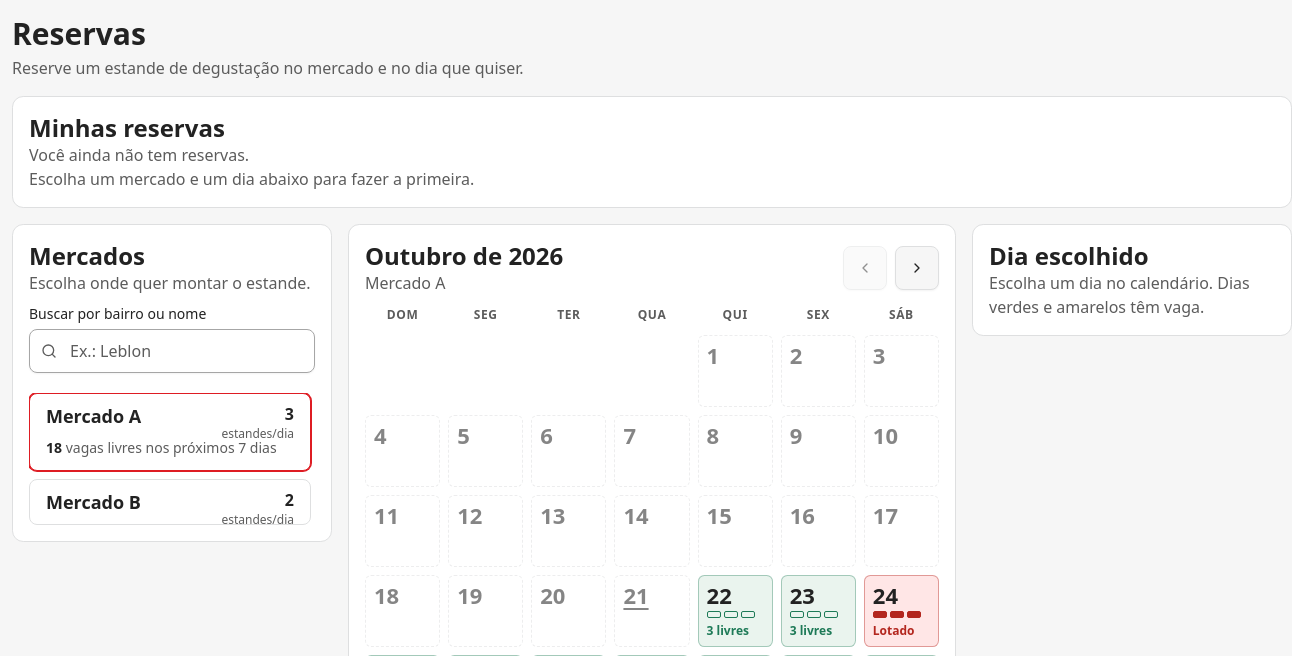
Scenario: SupplierScreen: reservar › dia lotado não deixa reservar
Click the button with aria-label "Sábado, 24 de outubro: lotado": coordinates (901, 611) [864,575,939,647]
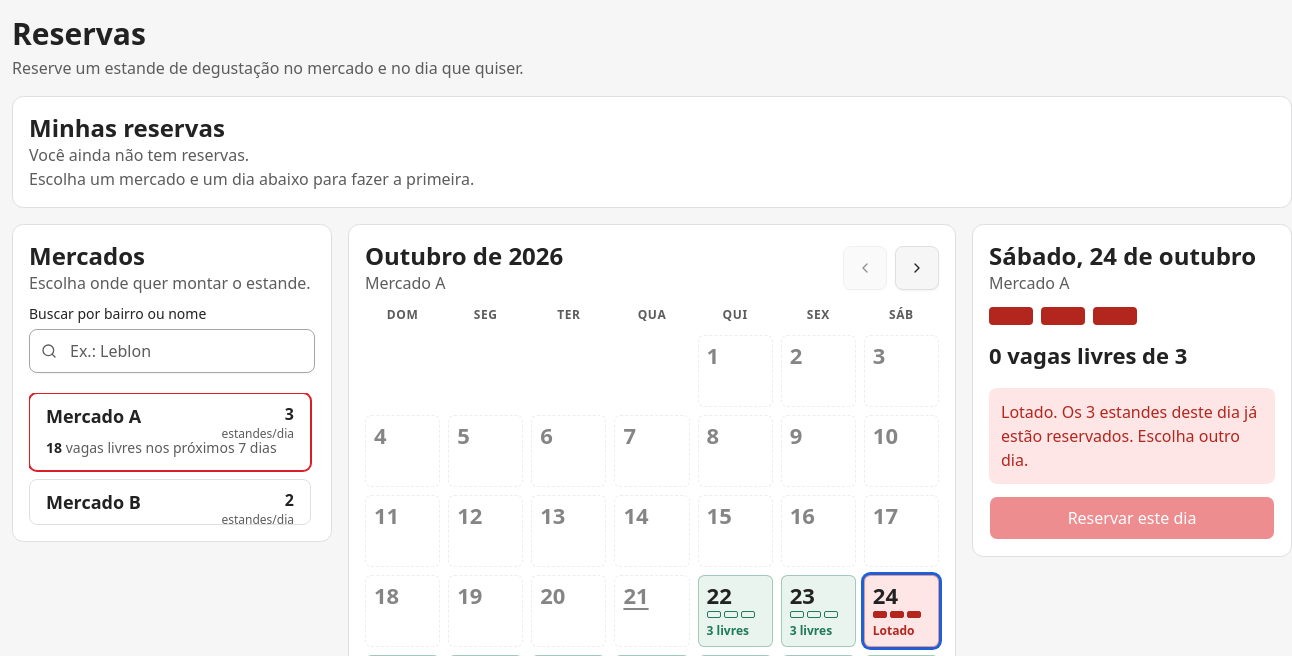
Check: the text "Lotado. Os 3 estandes deste dia já estão reservados" is shown, box [989,388,1275,484]
Check: the button "Reservar este dia" is disabled, box [989,496,1275,540]
